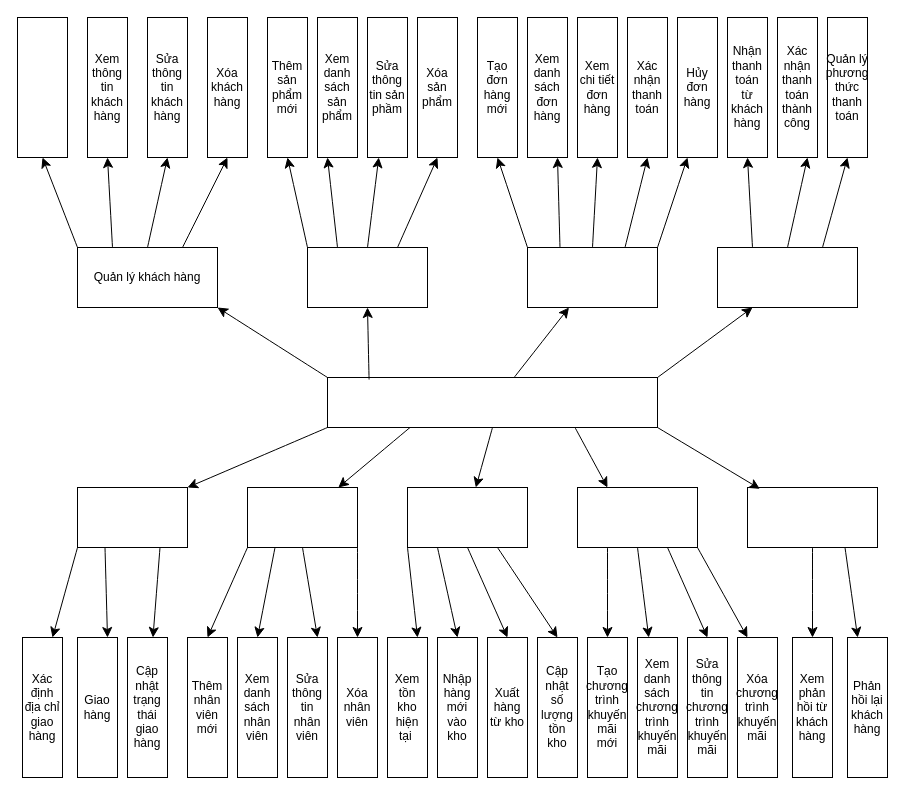
The diagram is 905 pixels wide and 795 high, and some of its shapes have lost their labels. The shapes that lost their labels are listed below. From the top down, each one's box as (x1, y1, x2, y2) in pixels, then its label:
(16, 16, 68, 158): Thêm khách hàng mới
(306, 246, 428, 308): Quản lý sản phẩm
(526, 246, 658, 308): Quản lý đơn hàng
(716, 246, 858, 308): Quản lý thanh toán
(326, 376, 658, 428): Phần mềm quản lý kinh doanh cửa hàng đò ăn nhanh online
(76, 486, 188, 548): Quản lý giao hàng
(246, 486, 358, 548): Quản lý nhân viên
(406, 486, 528, 548): Quản lý tồn kho
(576, 486, 698, 548): Quản lý khuyến mãi
(746, 486, 878, 548): Quản lý phàn hồi của khách hàng
